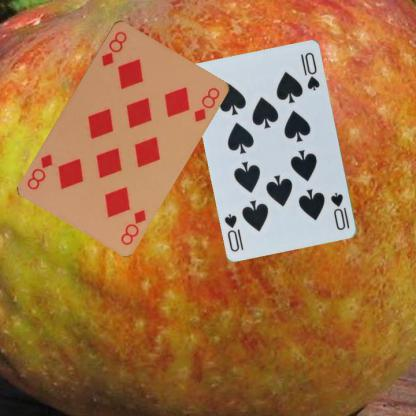10s: (328, 190, 351, 232)
8d: (98, 27, 128, 68), (118, 207, 147, 246)
